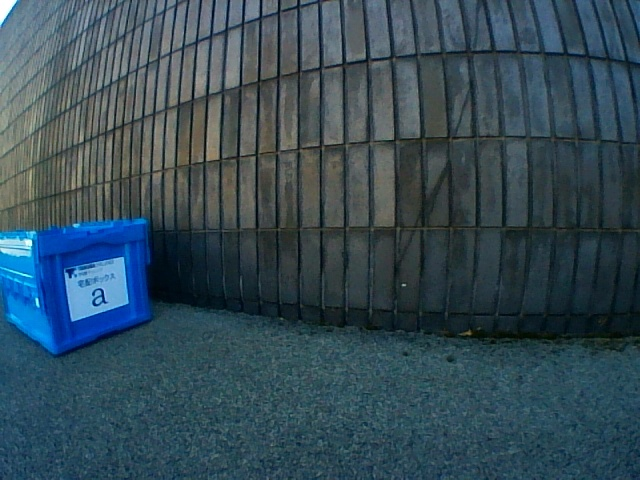blue_box: (1, 219, 152, 356)
tag_a: (78, 276, 118, 307)
